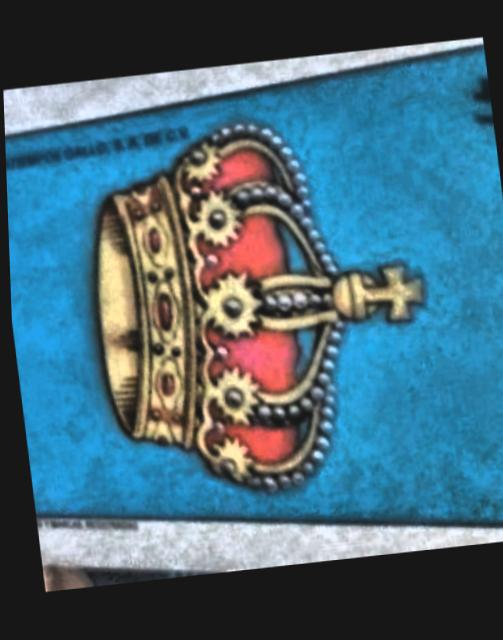La Corona: (4, 56, 503, 520)
